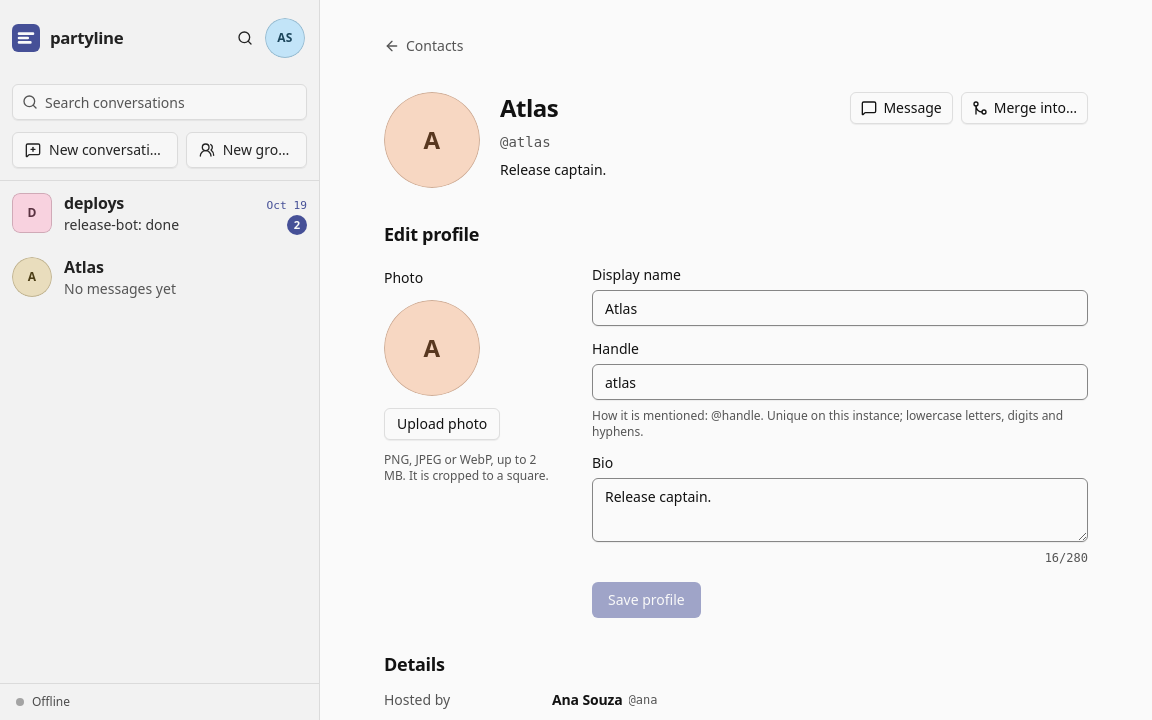
it: accessibility (en) › the merge dialog of an AI's profile has no axe violations
The image size is (1152, 720).
What coordinates should you click on to do the following:
click the button with aria-label "Merge Atlas into another AI"
I would click on:
 (1024, 108)
Its box is [961, 92, 1088, 124].
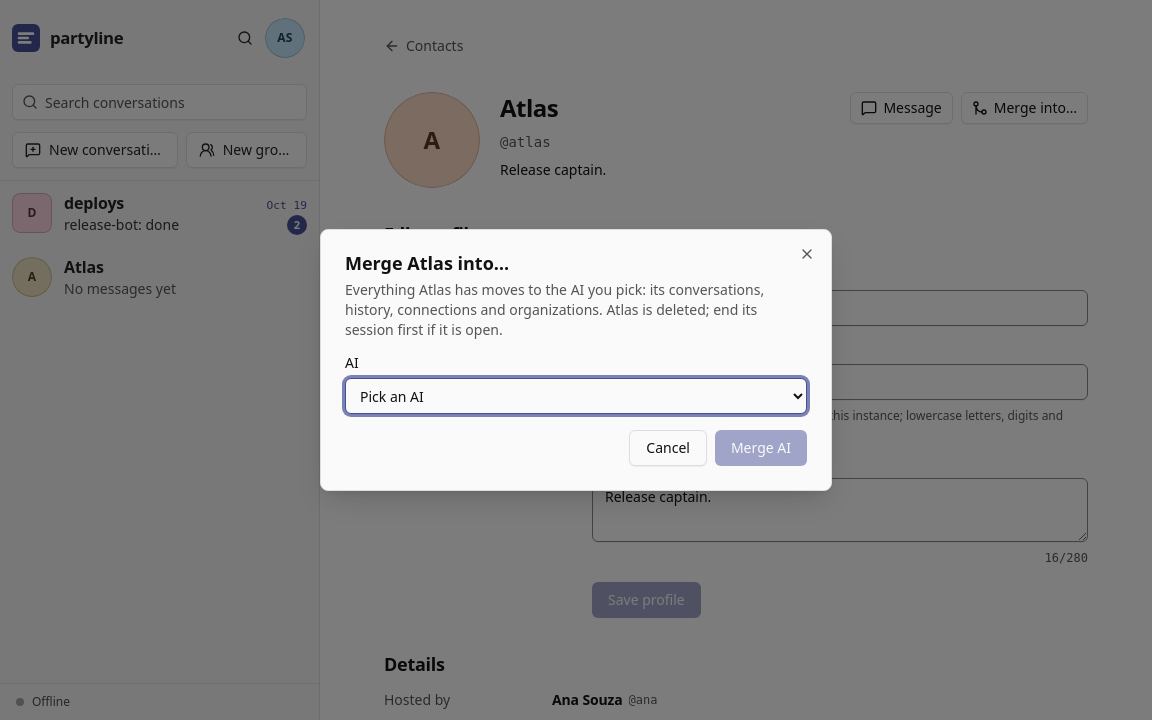
Check: the dropdown labelled "AI" is shown, box [345, 378, 807, 414]
